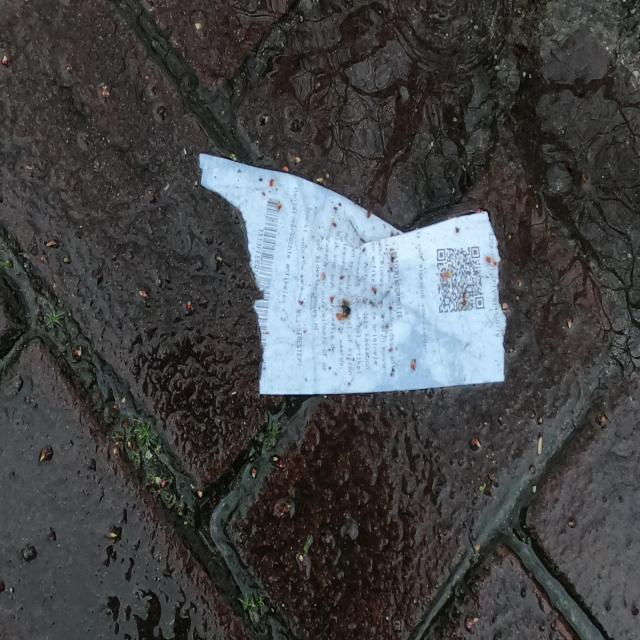Paper: (191, 144, 509, 402)
